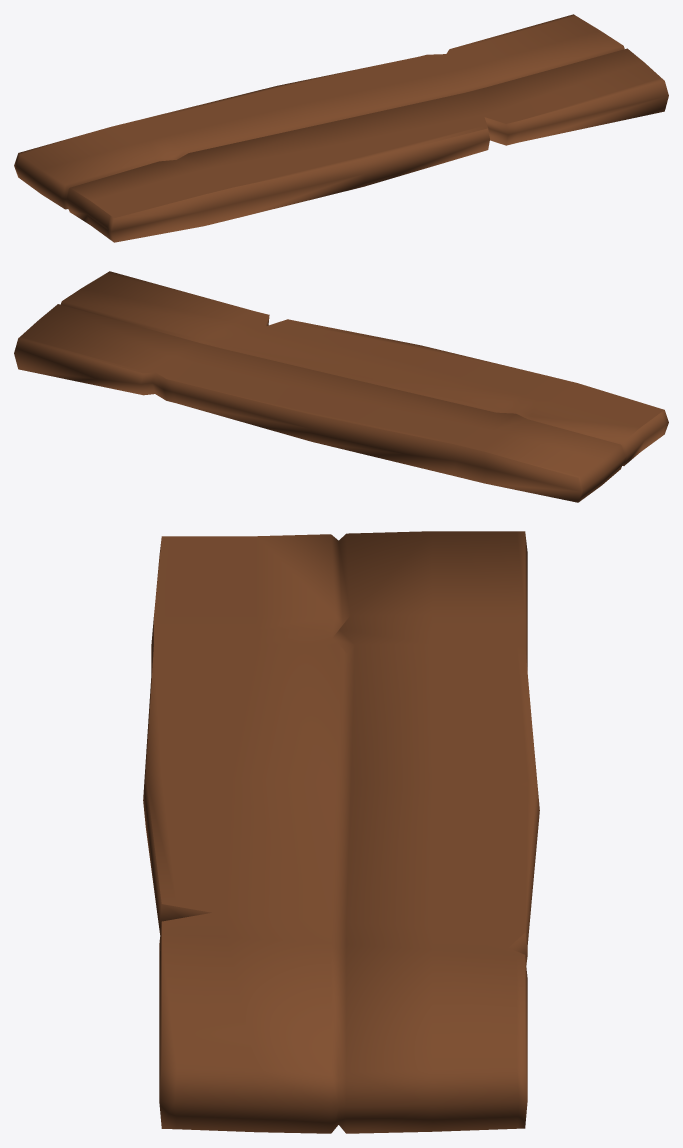
The model's file is Plank_B.fbx.
3 views of the same model, one above another, from view 1: azimuth 30°, elevation 25°; view 2: azimuth 150°, elevation 25°; view 3: azimuth 270°, elevation 25° (orthographic). The views are drawn at different scales.
Visible parts, largest first — view 1: Plank_B; view 2: Plank_B; view 3: Plank_B.
Boxes of the visible parts, box(x1,y1,x2,y2) form: Plank_B: box(14, 14, 668, 242); Plank_B: box(14, 271, 668, 502); Plank_B: box(143, 531, 539, 1133).
Size of the model in its own units: 192 by 58.21 by 10.23.
